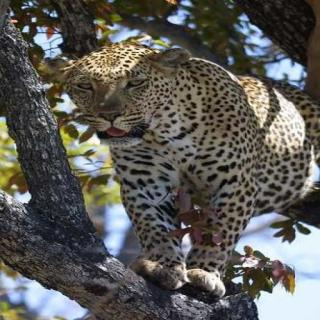Leopard: (35, 25, 308, 264)
